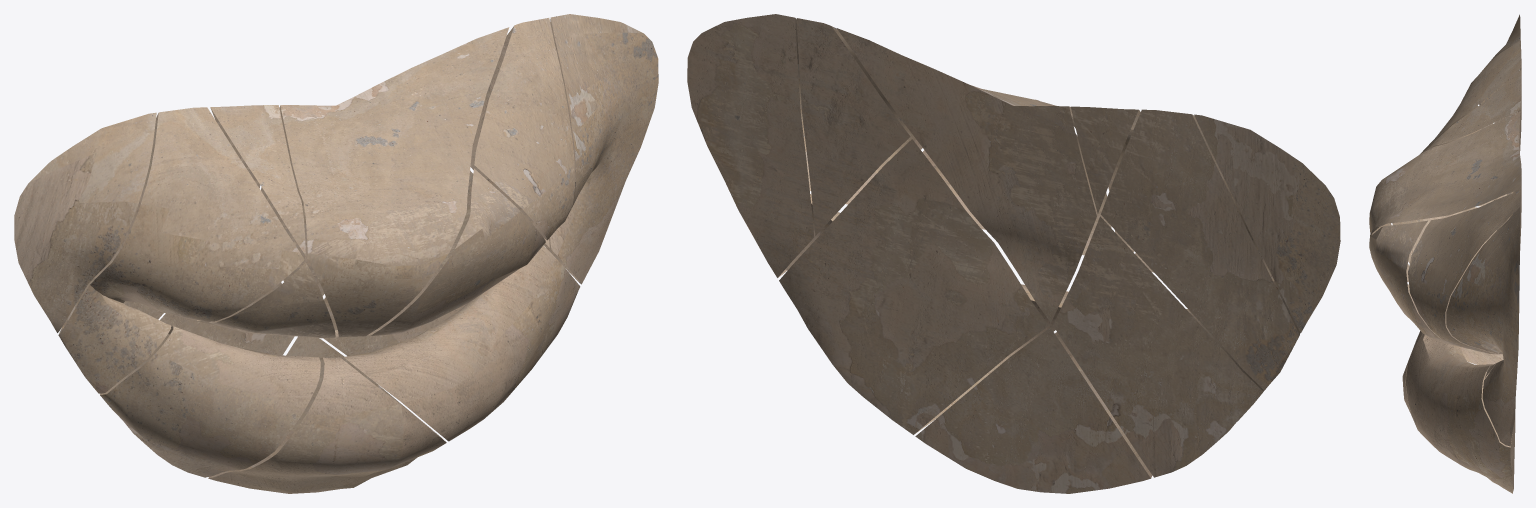
Rendered from mouth-broken.fbx.
3 renders of one model, left to right at view 1: azimuth 30°, elevation 25°; view 2: azimuth 150°, elevation 25°; view 3: azimuth 270°, elevation 25°, orthographic. The views are drawn at different scales.
Visible parts, largest first — view 1: mouth.003, mouth.001, mouth.008, mouth.005, mouth.010, mouth.006, mouth.012, mouth.004, mouth.002, mouth.009, mouth.007; view 2: mouth.005, mouth.003, mouth.008, mouth.001, mouth.010, mouth.012, mouth.006, mouth.004, mouth.009, mouth.002; view 3: mouth.003, mouth.005, mouth.010, mouth.004, mouth.002, mouth.001, mouth.009, mouth.008, mouth.012, mouth.006, mouth.007.
Part boxes in pixels (x1,y1,x2,y2): mouth.003: (261,27,509,337); mouth.001: (58,107,304,393); mouth.008: (100,282,320,477); mouth.005: (323,170,580,441); mouth.010: (544,14,658,284); mouth.006: (14,112,156,332); mouth.012: (208,336,446,493); mouth.004: (470,18,574,240); mouth.002: (367,168,545,335); mouth.009: (210,105,305,255); mouth.007: (197,262,335,338); mouth.005: (779,139,1068,434); mouth.003: (837,28,1134,322); mouth.008: (1053,216,1264,477); mouth.001: (1101,109,1300,390); mouth.010: (687,14,832,277); mouth.012: (915,327,1152,493); mouth.006: (1194,114,1340,333); mouth.004: (796,18,922,235); mouth.009: (1071,106,1140,213); mouth.002: (922,133,1111,255); mouth.003: (1369,111,1521,282); mouth.005: (1406,320,1515,493); mouth.010: (1446,206,1520,446); mouth.004: (1408,190,1521,354); mouth.002: (1369,220,1488,351); mouth.001: (1420,41,1521,230); mouth.009: (1421,69,1521,153); mouth.008: (1445,209,1517,364); mouth.012: (1402,309,1513,484); mouth.006: (1479,14,1520,122); mouth.007: (1392,207,1477,263).
Bounding box in the file's own units: 5.72 × 3.54 × 1.36.
